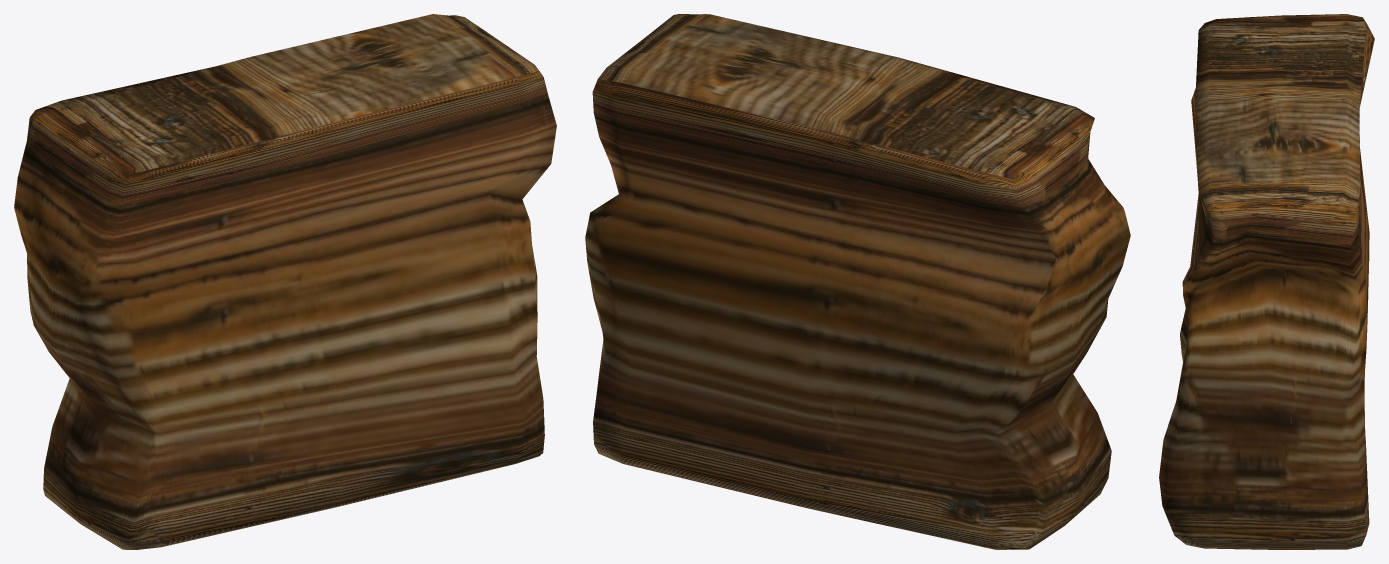
File: Button_03x03.glb
3 views of the same model, side by side, from view 1: azimuth 30°, elevation 25°; view 2: azimuth 150°, elevation 25°; view 3: azimuth 270°, elevation 25° (orthographic). The views are drawn at different scales.
Visible parts, largest first — view 1: 0.3х0.3; view 2: 0.3х0.3; view 3: 0.3х0.3.
Part boxes in pixels (left/top/right/bottom): 0.3х0.3: left=14, top=14, right=556, bottom=549; 0.3х0.3: left=585, top=14, right=1130, bottom=549; 0.3х0.3: left=1159, top=14, right=1374, bottom=549.
Bounding box in the file's own units: 0.7619 × 0.6112 × 0.3298.
1 material, 1 textured.
